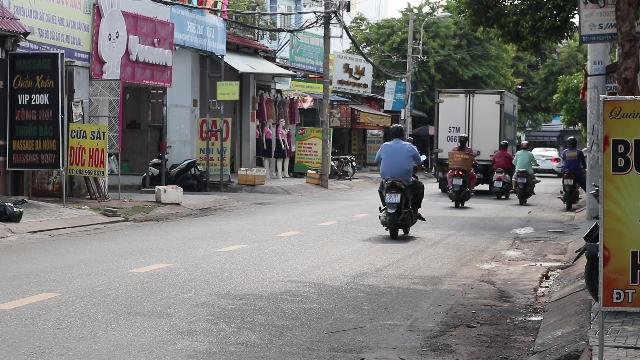helmet: (387, 124, 405, 140)
licenseplate: (386, 194, 400, 202)
motorcyclist: (372, 122, 426, 238)
